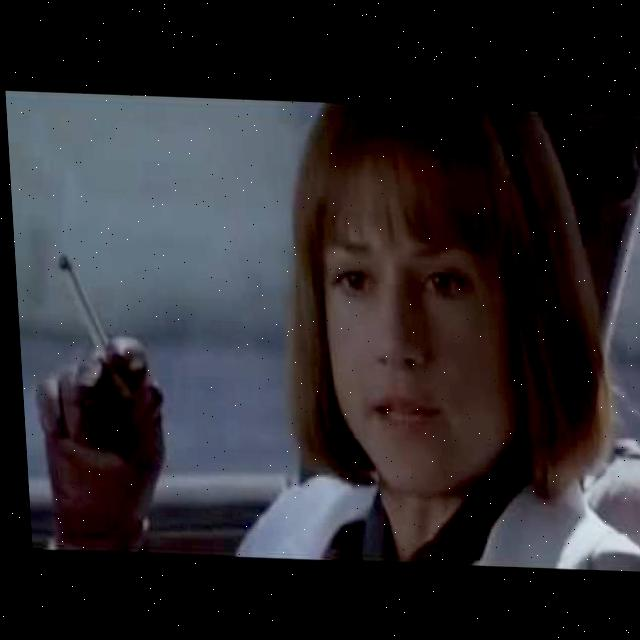cigarette: (55, 254, 132, 402)
